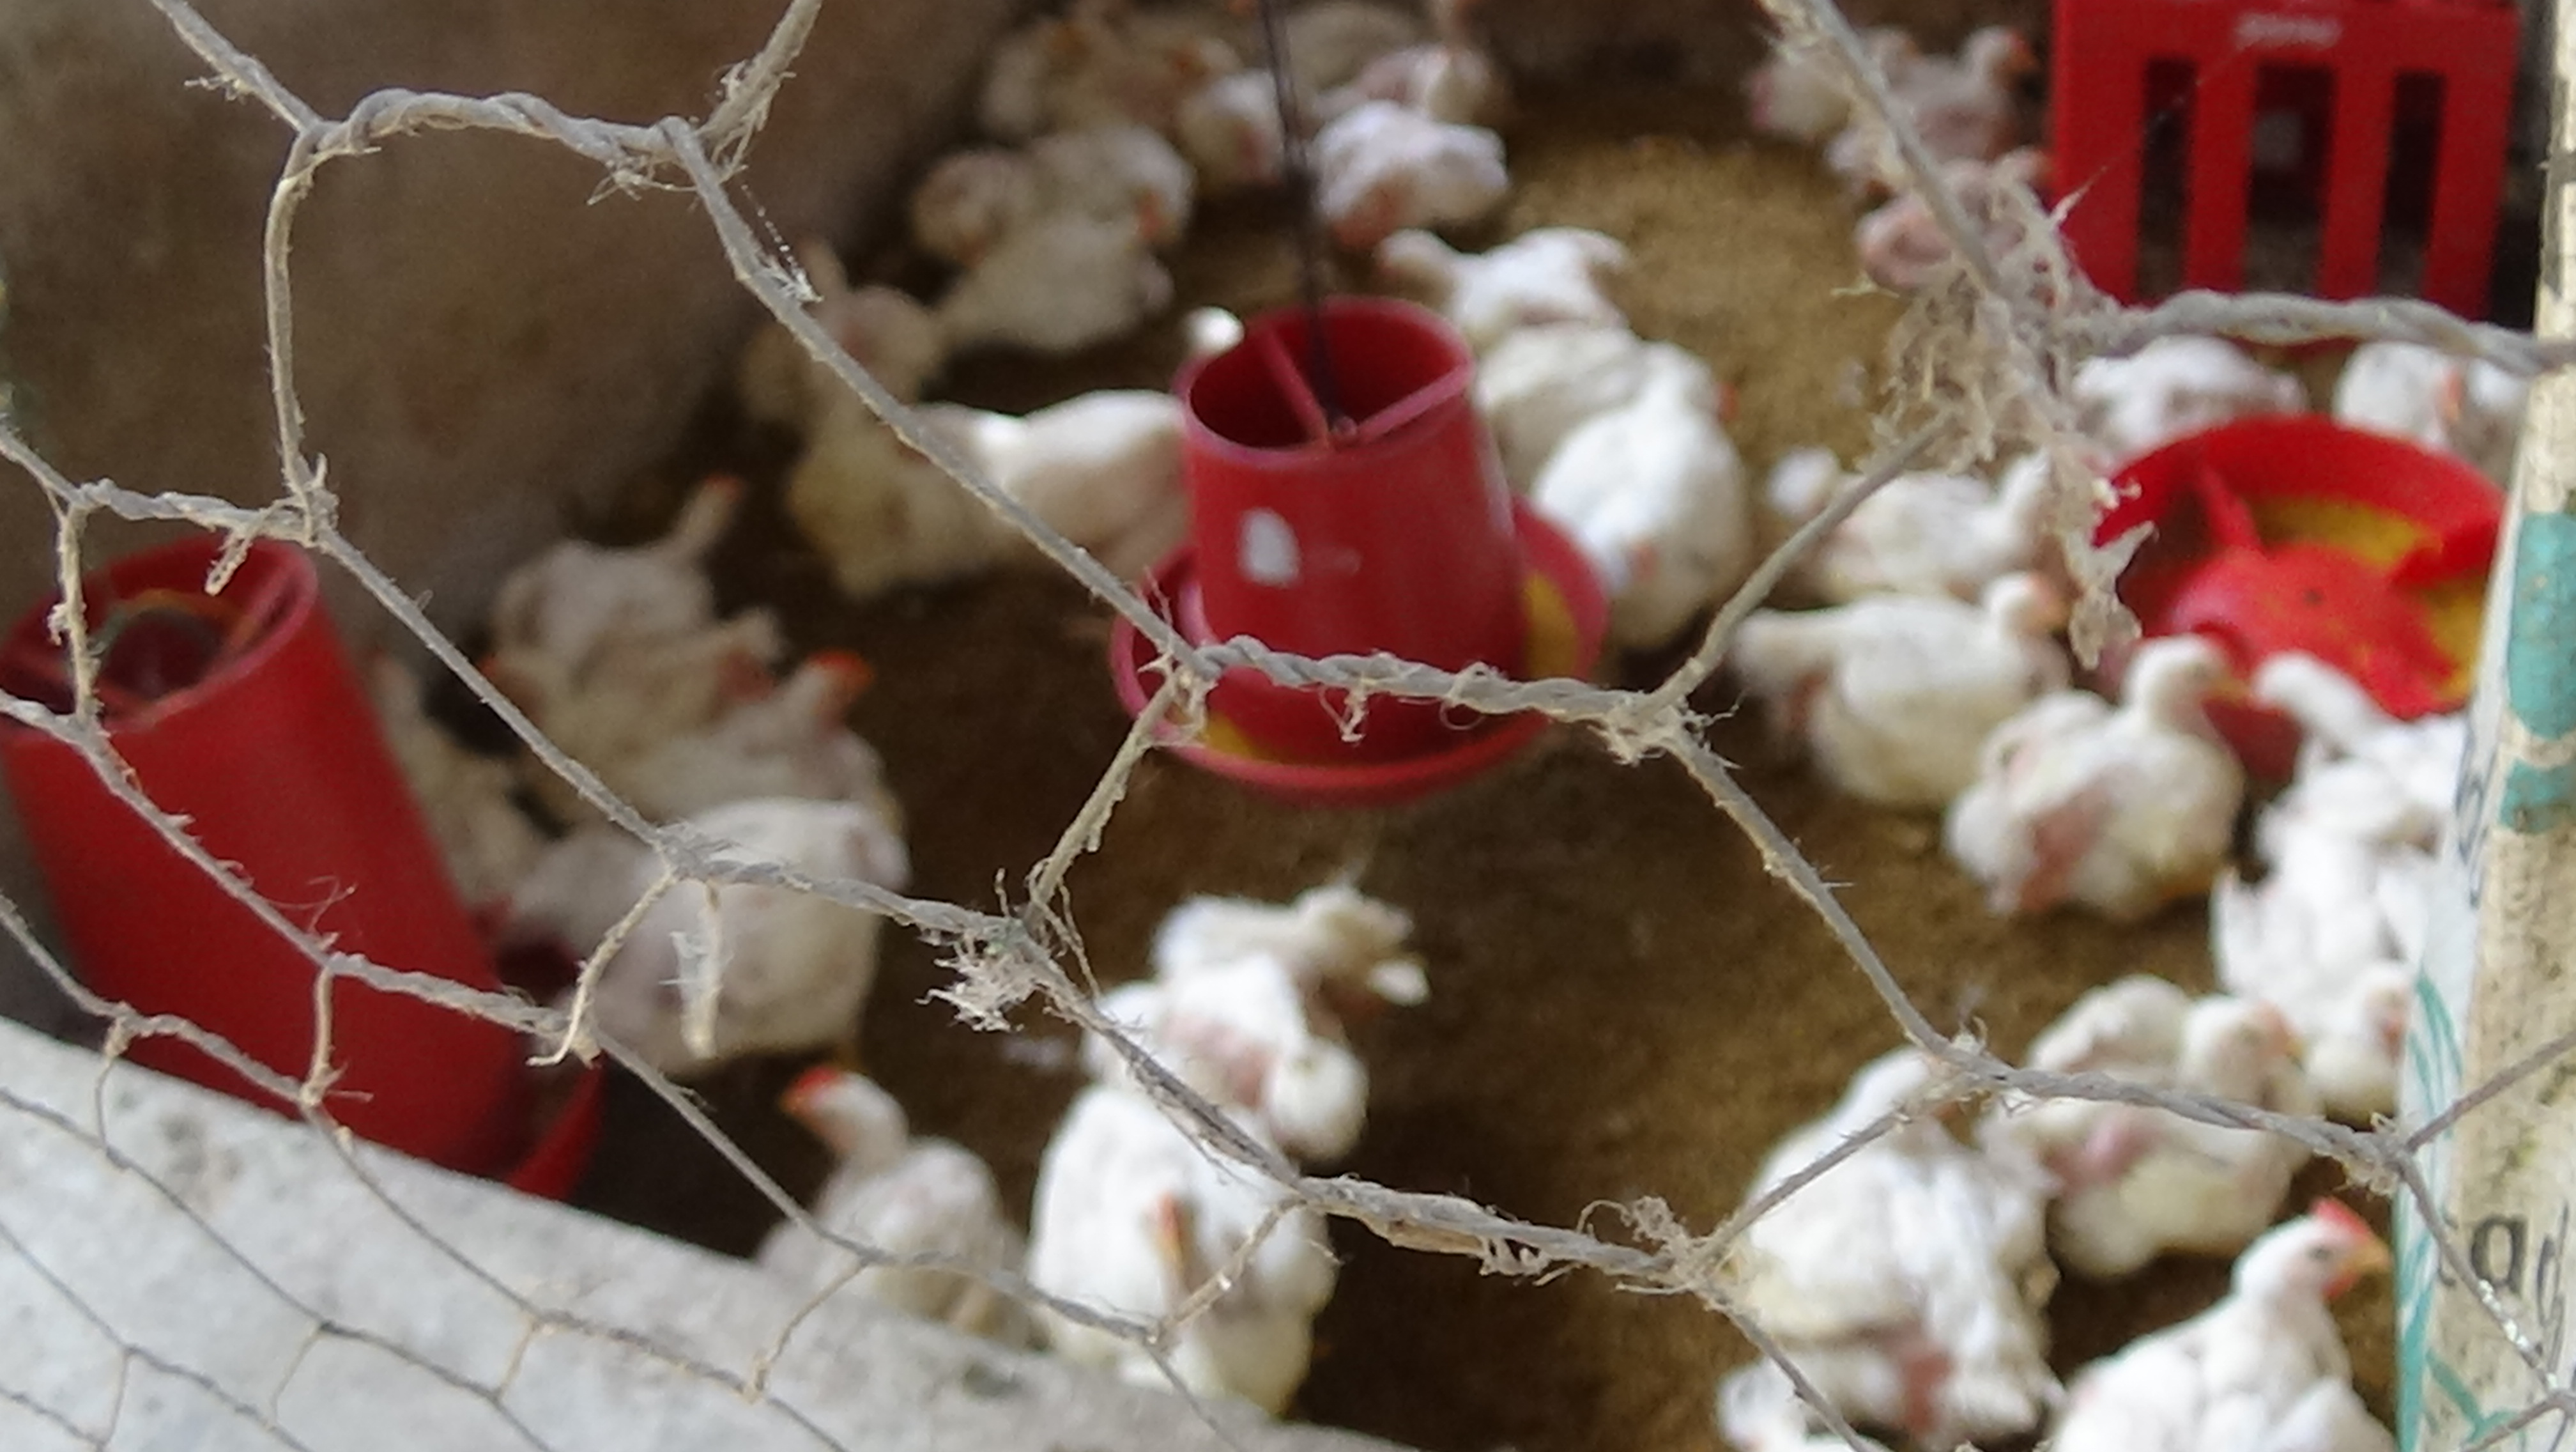Pollos: (435, 811, 936, 1082), (1762, 1015, 2042, 1425), (2012, 1179, 2406, 1452), (1727, 531, 2114, 772), (1033, 1075, 1338, 1371), (1944, 616, 2261, 900), (2012, 976, 2318, 1236), (469, 434, 761, 701), (1543, 324, 1762, 641), (745, 1041, 1010, 1300), (2243, 756, 2419, 1142), (630, 641, 918, 836), (1783, 133, 2091, 285), (1362, 209, 1651, 370), (936, 179, 1189, 352), (1714, 0, 1957, 174), (2346, 276, 2532, 483), (1833, 14, 2049, 188), (1309, 103, 1520, 239), (961, 0, 1106, 133), (1157, 90, 1304, 186)
